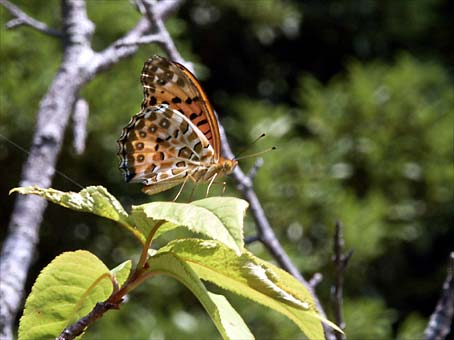Argyreus hyperbius: (112, 46, 278, 204)
butterfly: (114, 48, 280, 206)
